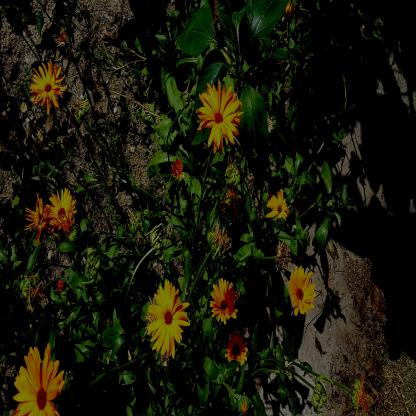marigold: (11, 344, 65, 416), (147, 278, 192, 358), (197, 78, 244, 154), (31, 57, 67, 117), (287, 264, 318, 319), (209, 277, 240, 327), (46, 184, 77, 227), (264, 184, 292, 227), (224, 327, 249, 370)
